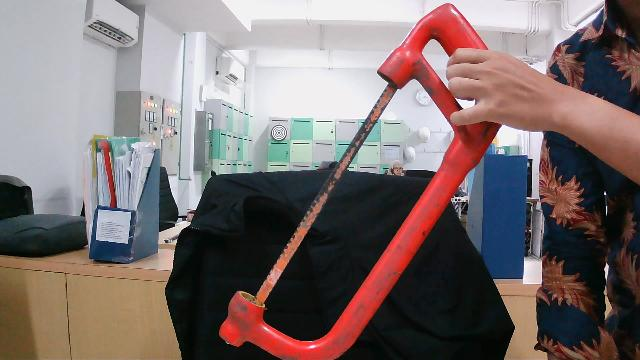gergaji_besi: (195, 1, 517, 360)
